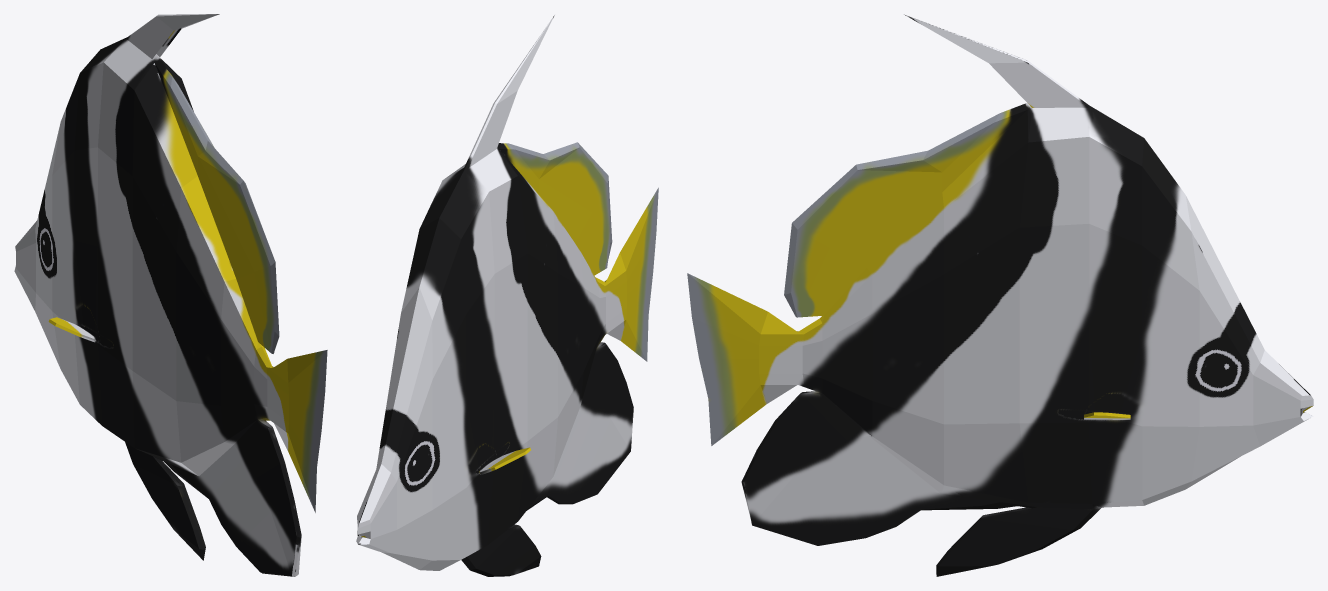
Rendered from bufferflyfish.fbx.
3 views of the same model, side by side, from view 1: azimuth 30°, elevation 25°; view 2: azimuth 150°, elevation 25°; view 3: azimuth 270°, elevation 25° (orthographic). The views are drawn at different scales.
Parts seen in each view (by area): view 1: Cube; view 2: Cube; view 3: Cube.
Part boxes in pixels (x1,y1,x2,y2): Cube: (14, 14, 327, 576); Cube: (356, 15, 658, 576); Cube: (687, 14, 1313, 576).
Size of the model in its own units: 213 by 802 by 809.
1 material, 1 textured.
